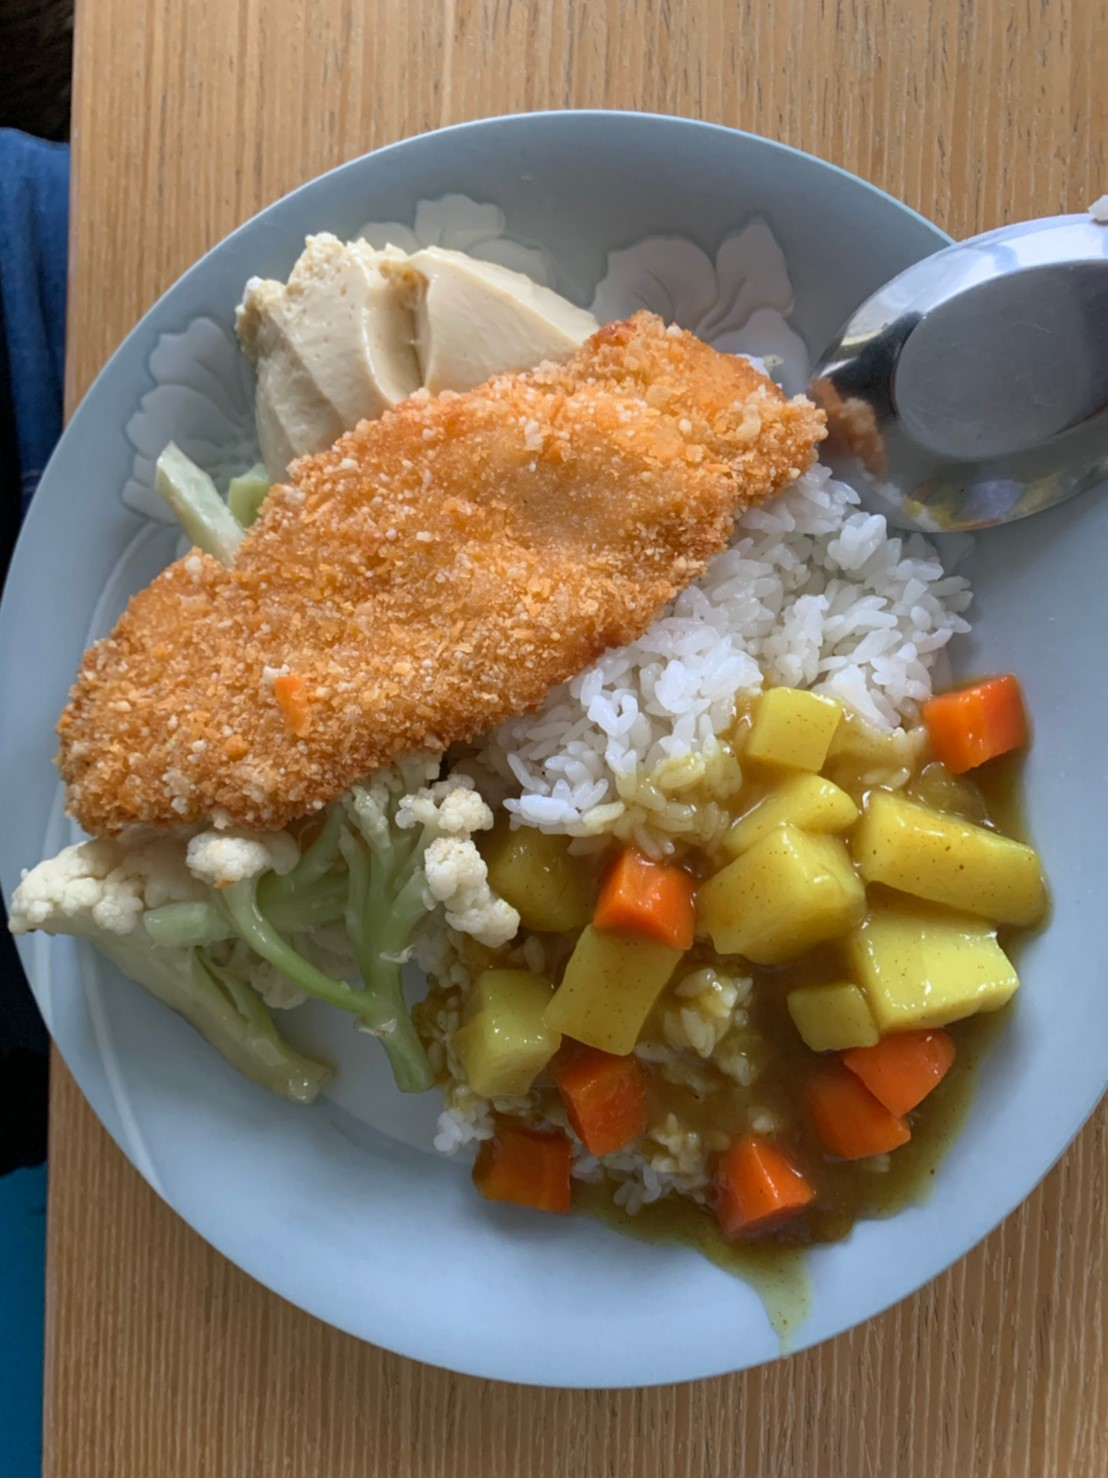curry: (420, 675, 1046, 1249)
fried_chicken: (50, 317, 821, 851)
rice: (495, 477, 951, 831)
